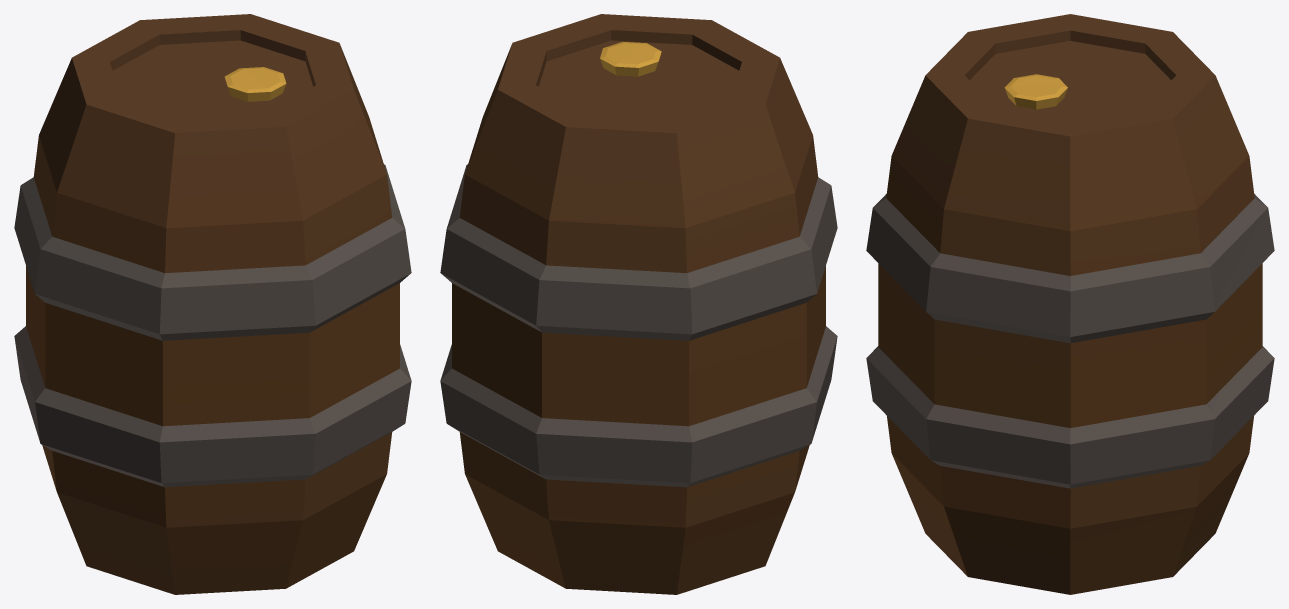
The model's file is Barrel.fbx.
The picture shows the model from 3 angles, left to right: view 1: azimuth 30°, elevation 25°; view 2: azimuth 150°, elevation 25°; view 3: azimuth 270°, elevation 25°; orthographic projection.
Parts seen in each view (by area): view 1: Barrel; view 2: Barrel; view 3: Barrel.
Part boxes in pixels (<box>): Barrel: <box>14,14,411,594</box>; Barrel: <box>440,14,837,594</box>; Barrel: <box>866,14,1274,594</box>.
Bounding box in the file's own units: 47.6 × 59.11 × 47.6.
